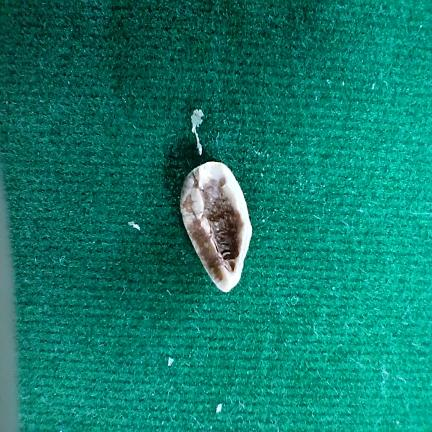shell: (180, 162, 252, 292)
